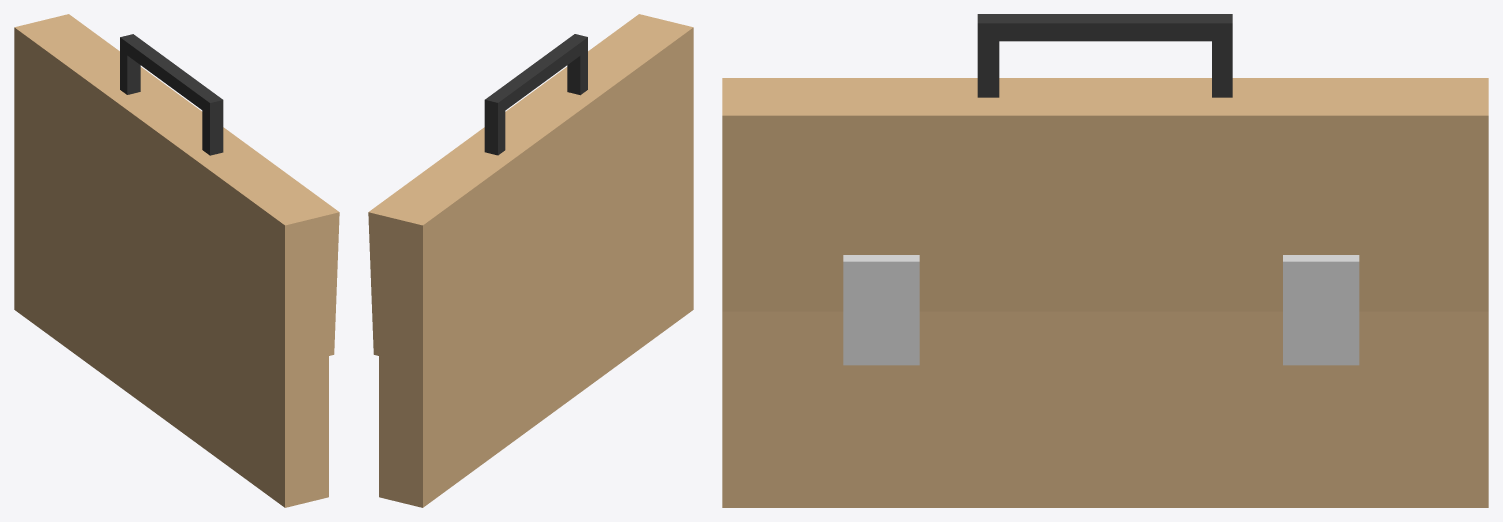
File: briefcase.fbx
3 views of the same model, side by side, from view 1: azimuth 30°, elevation 25°; view 2: azimuth 150°, elevation 25°; view 3: azimuth 270°, elevation 25° (orthographic). The views are drawn at different scales.
Visible parts, largest first — view 1: Cube; view 2: Cube; view 3: Cube.
Part boxes in pixels (bbox=[...]): Cube: bbox=[14, 14, 339, 507]; Cube: bbox=[368, 14, 693, 507]; Cube: bbox=[722, 14, 1488, 507].
Size of the model in its own units: 52.81 by 280 by 410.
